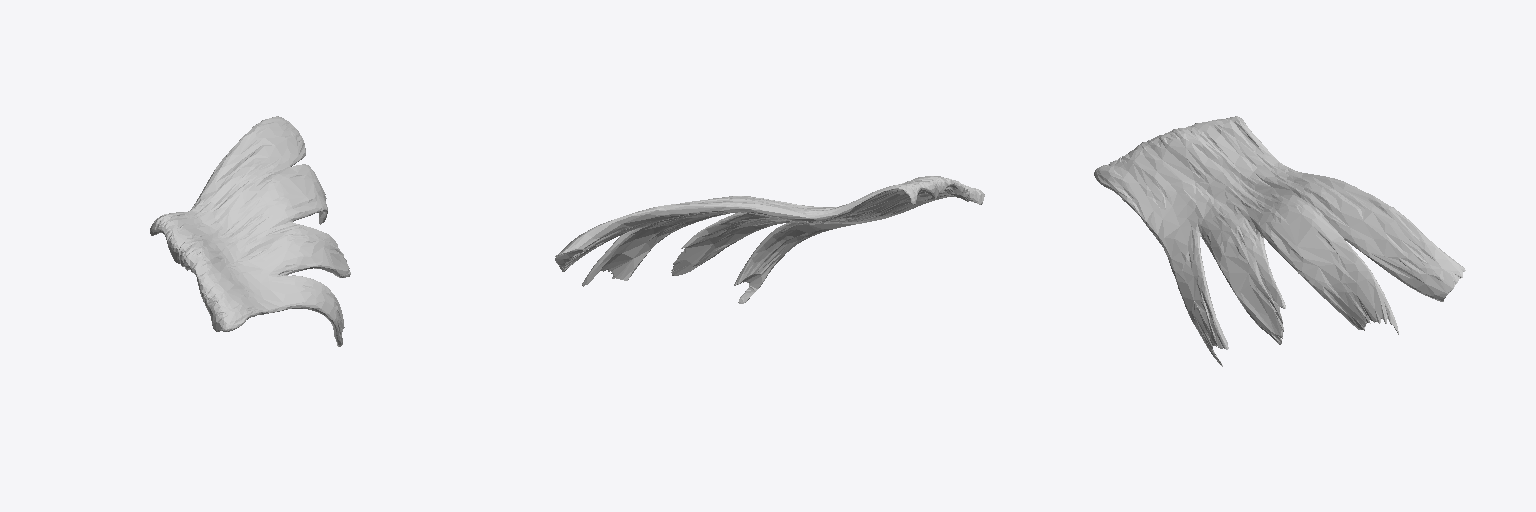
Rendered from left serratus posterior superior.obj.
3 renders of one model, left to right at view 1: azimuth 30°, elevation 25°; view 2: azimuth 150°, elevation 25°; view 3: azimuth 270°, elevation 25°, orthographic.
Visible parts, largest first — view 1: grp1; view 2: grp1; view 3: grp1.
Part boxes in pixels (x1,y1,x2,y2): grp1: (150, 116, 350, 346); grp1: (555, 176, 984, 303); grp1: (1094, 116, 1465, 366).
Size of the model in its own units: 104 by 64.7 by 131.